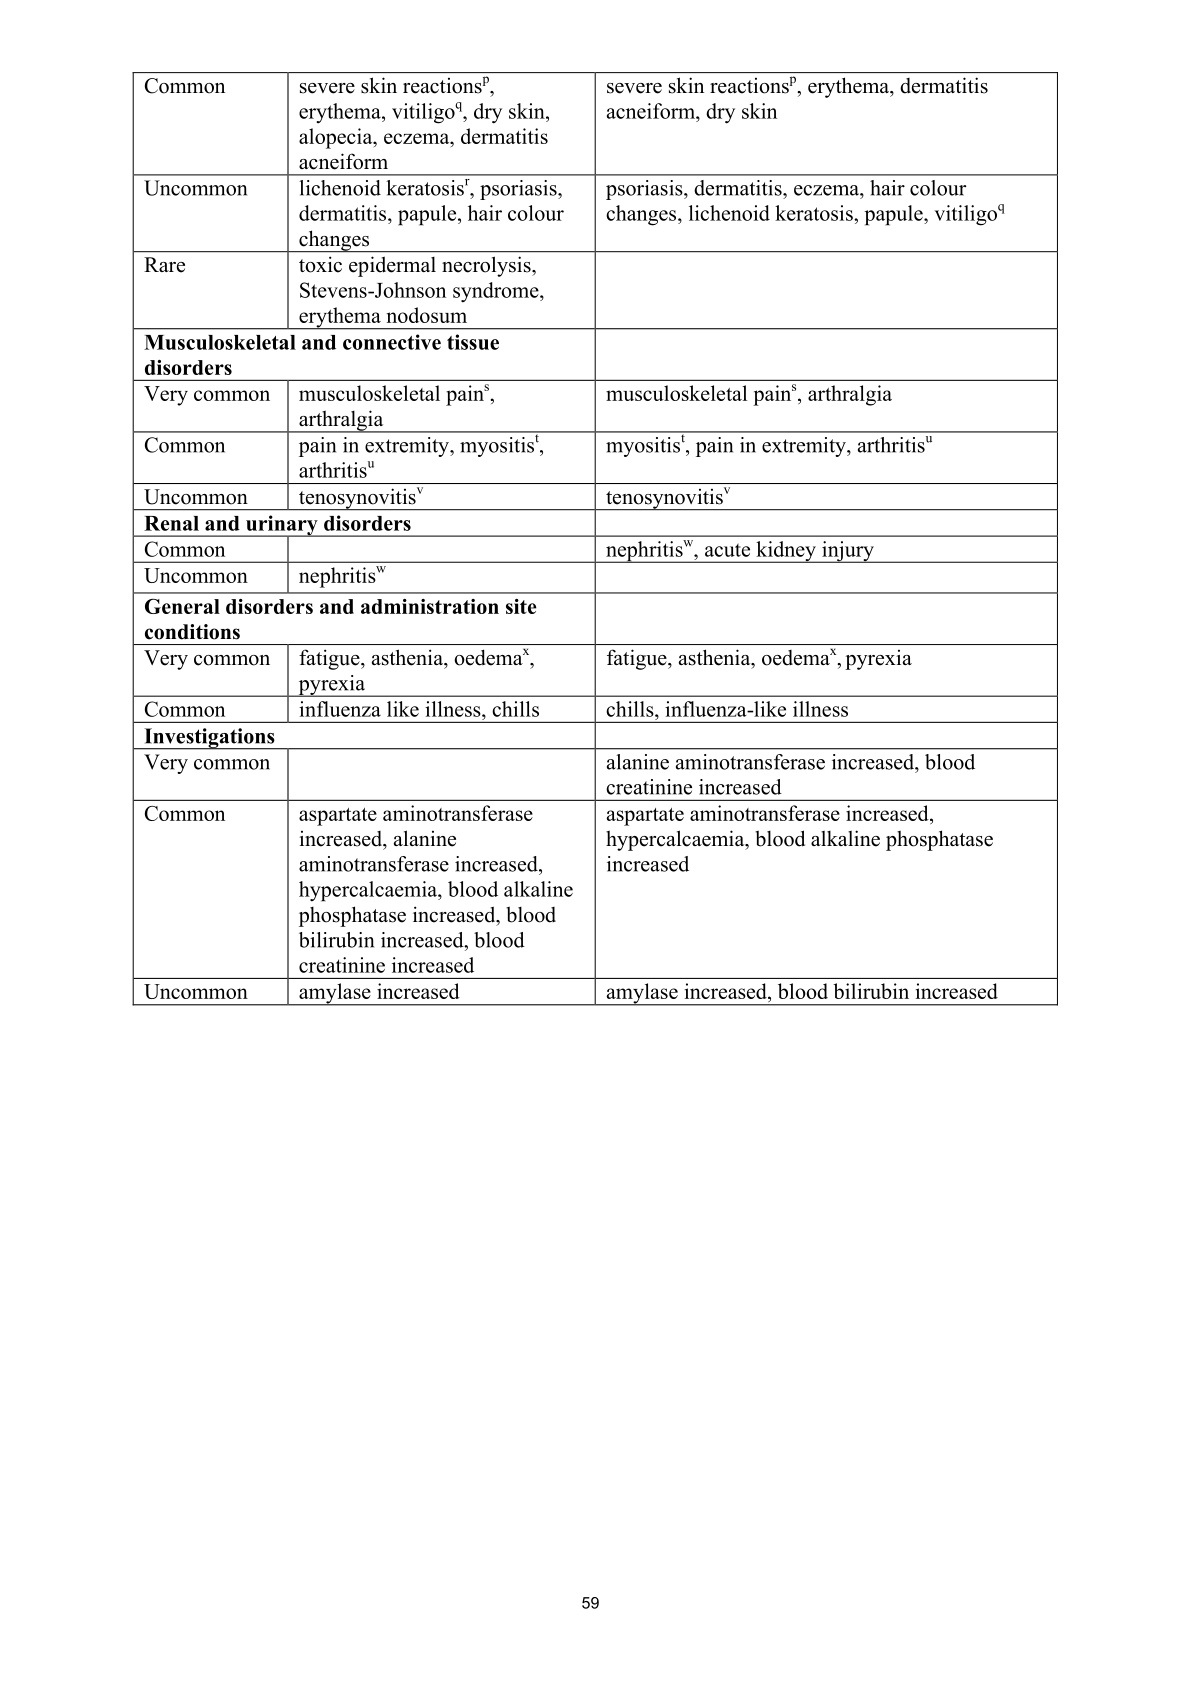merged_cells: (131, 70, 1058, 1006)
